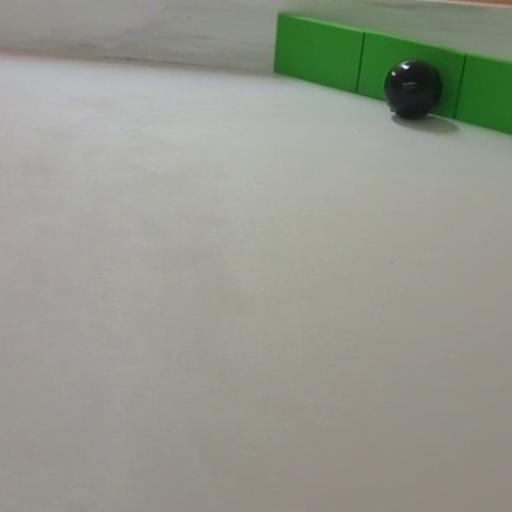dead: (383, 57, 445, 120)
